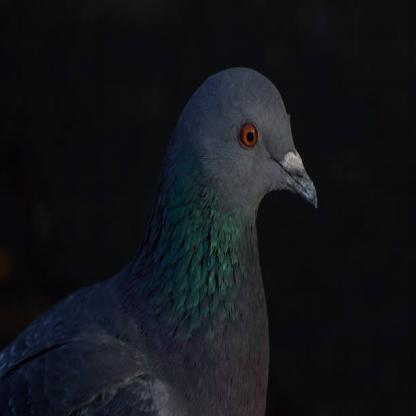Flying Rat: (1, 63, 318, 416)
